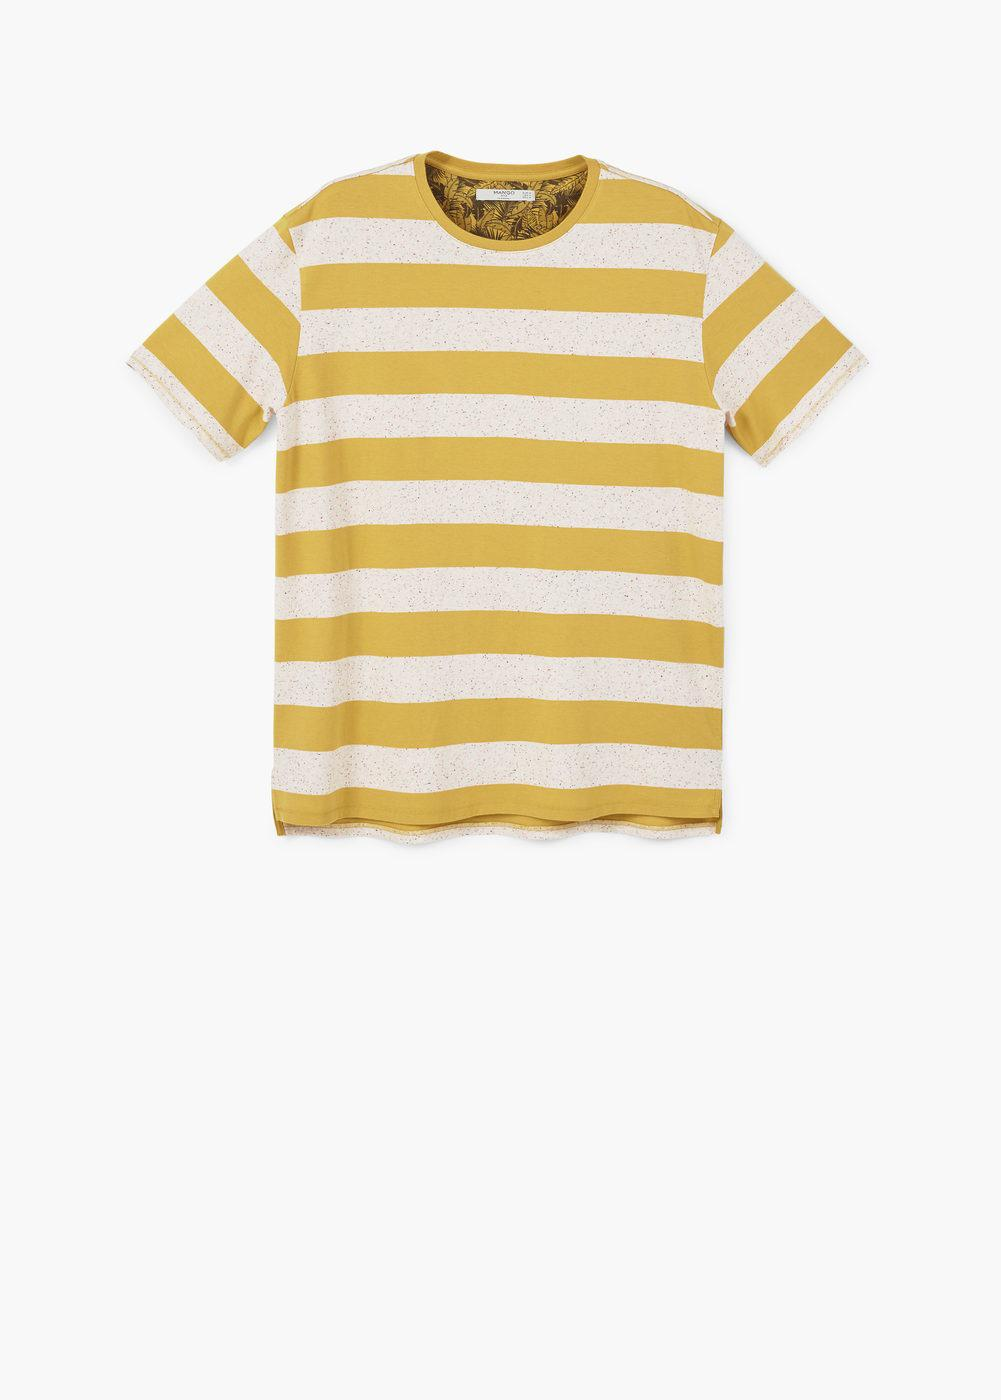teeshirt: (112, 131, 846, 899)
